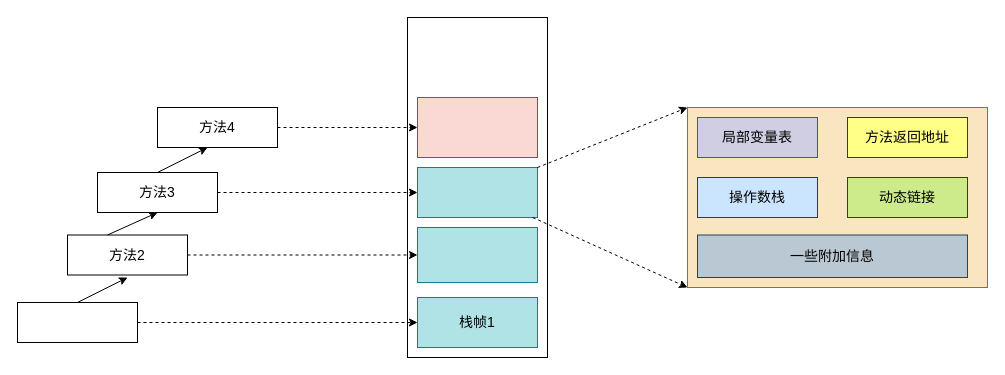
Image size: 1005x375. Some labels were removed from this diagram. The centre of each missing label's shape, as x and y in pixels:
方法1: the point at 77,322
栈帧2: the point at 477,254
栈帧3: the point at 477,192
栈帧4: the point at 477,127
